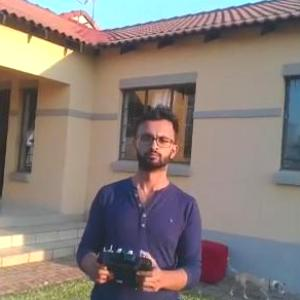follow: (69, 101, 207, 299)
null: (218, 255, 288, 299)
